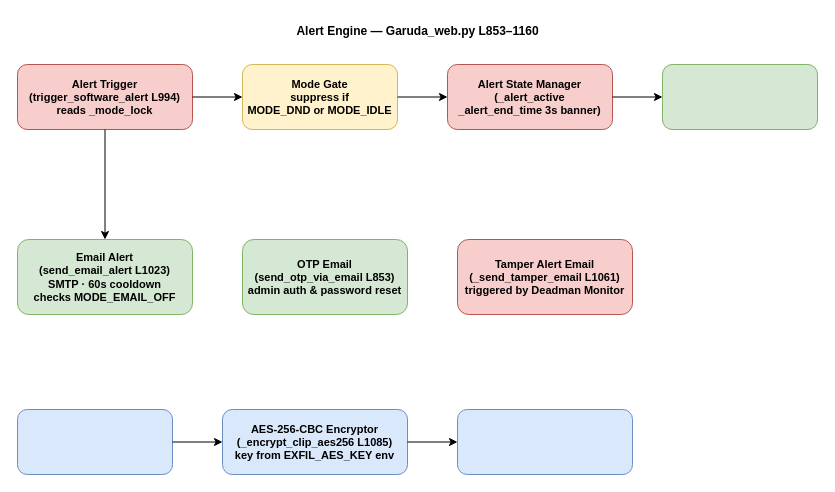
Some shapes in this 835 by 492 pixel diagram are drawn without their labels. Each missing label, with the centre of its shape:
"Clip Recorder (clip_start / clip_stop L3268, L3296)" goes at point (94, 441).
"SSH Exfiltrator (_ssh_upload L1111 exfiltrate_clip L1144)" goes at point (544, 441).
"WebSocket Push (push_urgent_ws L897 notifies all WS clients)" goes at point (740, 97).
